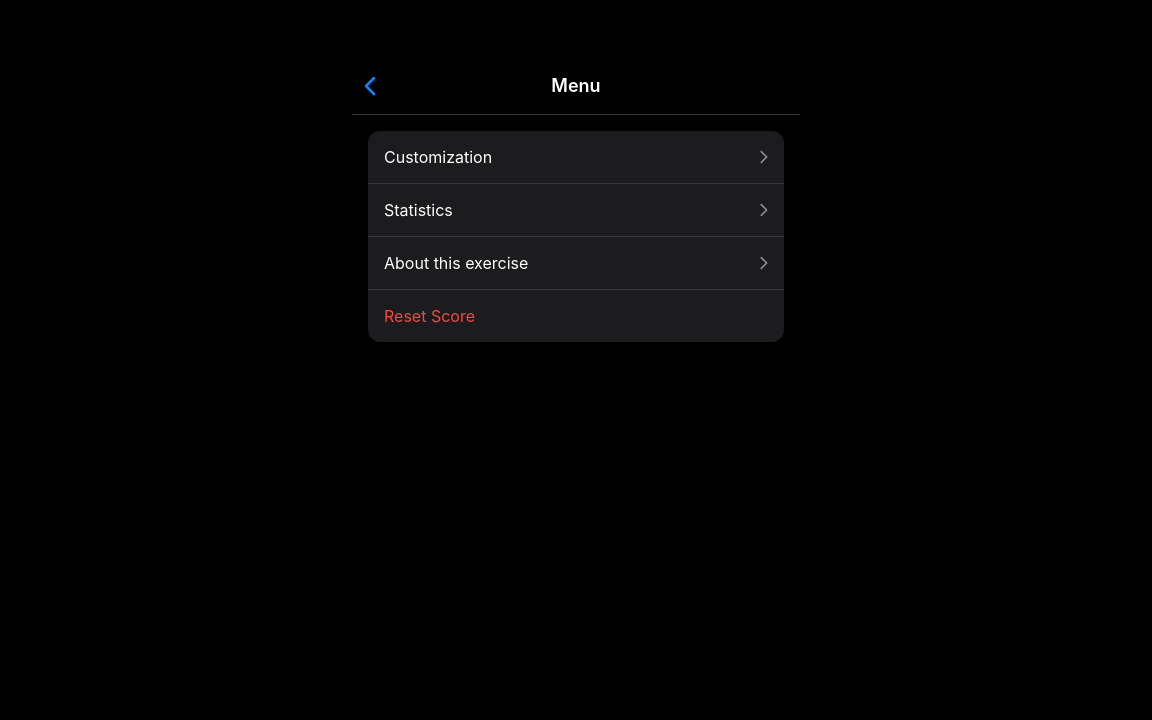
chords screen › lists every chord, grouped by category
Click the button "Customization" at (438,157), box [368,131,784,183]
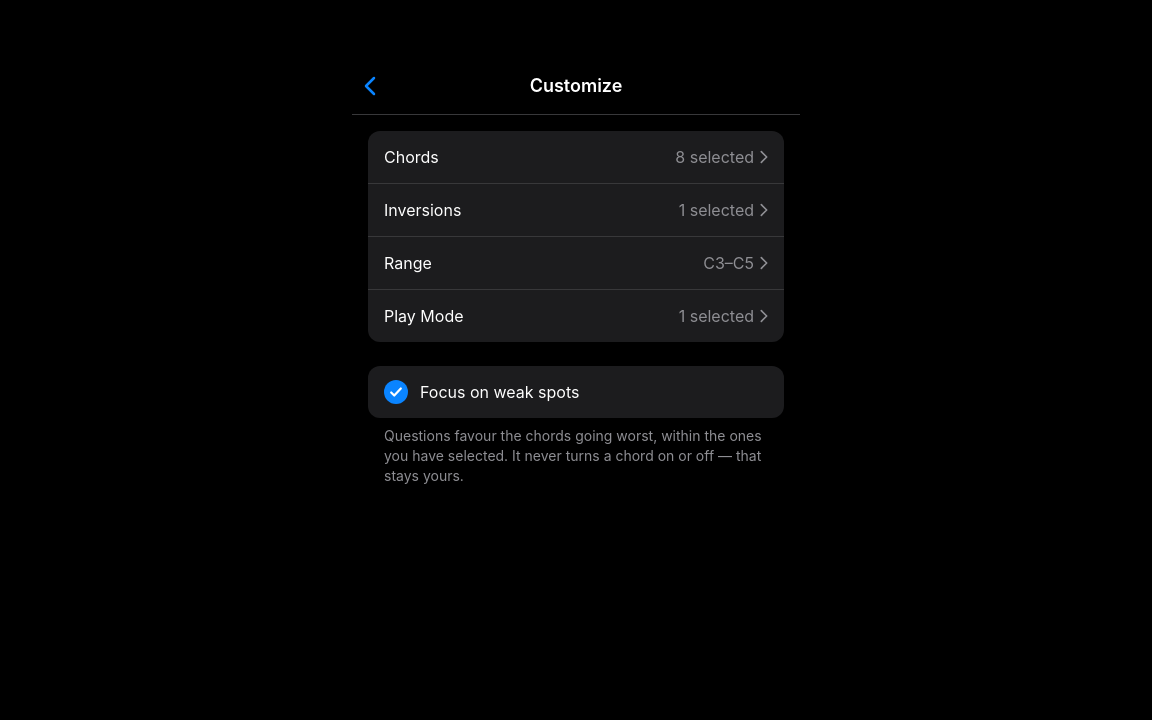
Click the button "Chords 8 selected" at (411,157), box [368,131,784,183]
(page scrolled)
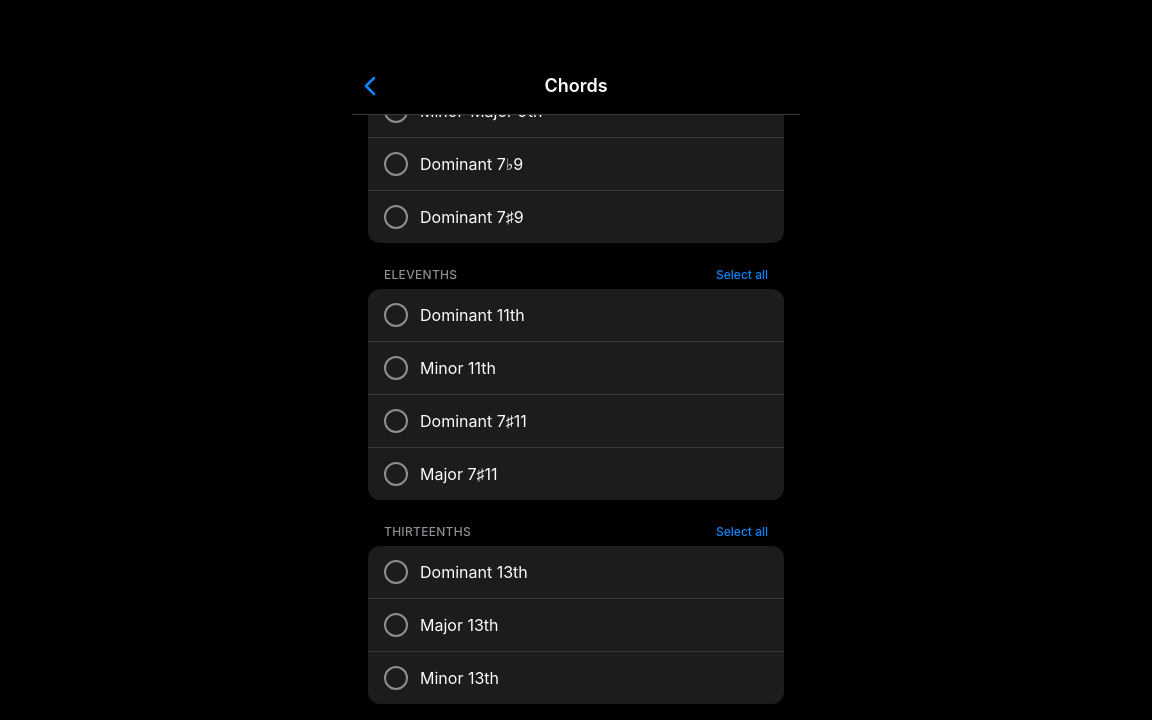
Check: the heading "Thirteenths" is shown, box [384,524,471,540]
